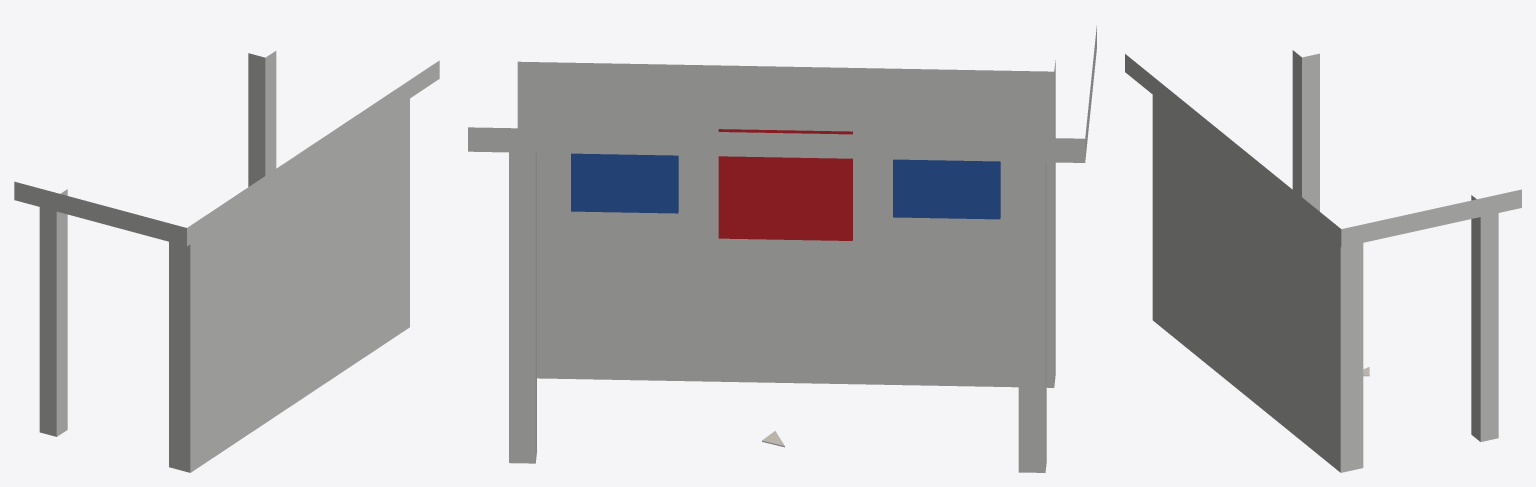
Rendered from ilovearuba_shelter.glb.
3 views of the same model, side by side, from view 1: azimuth 30°, elevation 25°; view 2: azimuth 150°, elevation 25°; view 3: azimuth 270°, elevation 25° (orthographic). The views are drawn at different scales.
Visible parts, largest first — view 1: ilovearuba_shelter_lod0; view 2: ilovearuba_shelter_lod0; view 3: ilovearuba_shelter_lod0.
Boxes of the visible parts, box(x1,y1,x2,y2) form: ilovearuba_shelter_lod0: box(14, 51, 439, 472); ilovearuba_shelter_lod0: box(468, 25, 1096, 472); ilovearuba_shelter_lod0: box(1125, 50, 1521, 472).
Size of what is drawn, in the model's own units: 5 by 2.8 by 3.9.
